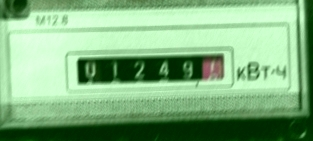0: (82, 58, 95, 78)
1: (107, 58, 117, 78)
2: (131, 59, 144, 79)
4: (156, 58, 167, 77)
7: (204, 54, 216, 73)
9: (179, 58, 192, 80)
screen: (56, 45, 231, 92)
